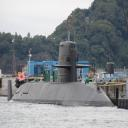submarine: (9, 42, 116, 108)
